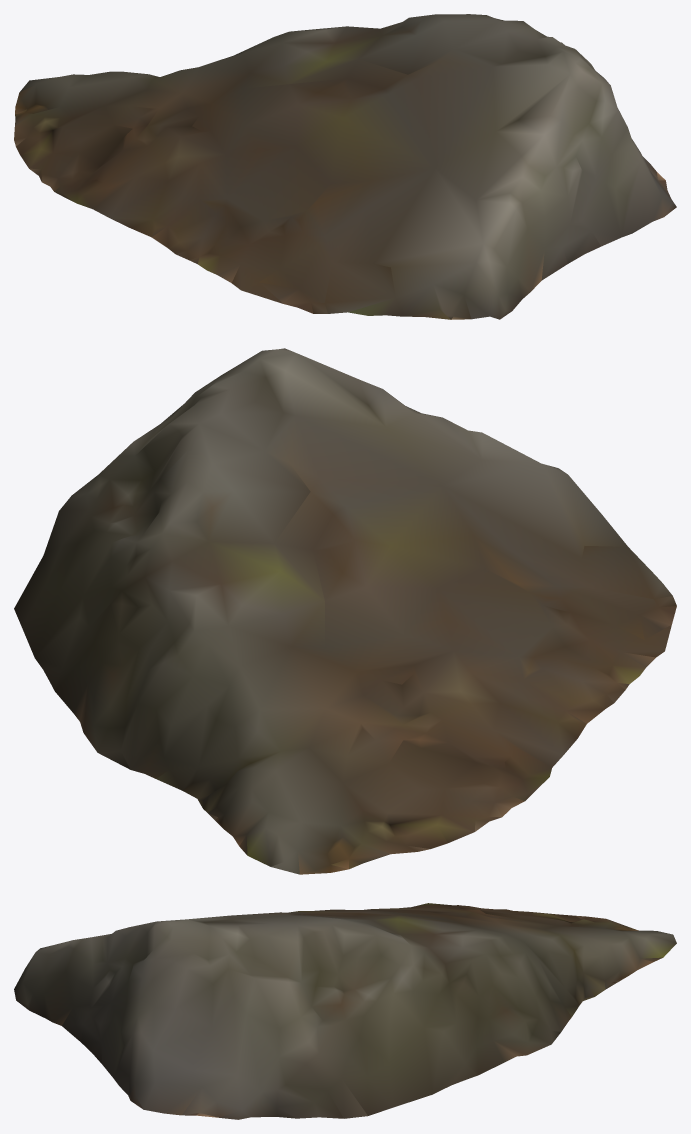
File: SM_Rock_01.fbx
3 views of the same model, one above another, from view 1: azimuth 30°, elevation 25°; view 2: azimuth 150°, elevation 25°; view 3: azimuth 270°, elevation 25° (orthographic). The views are drawn at different scales.
Visible parts, largest first — view 1: Rock_01_LOW.001; view 2: Rock_01_LOW.001; view 3: Rock_01_LOW.001.
Boxes of the visible parts, x1,y1,x2,y2 form: Rock_01_LOW.001: (14, 14, 676, 319); Rock_01_LOW.001: (14, 348, 676, 874); Rock_01_LOW.001: (14, 903, 676, 1119).
Size of the model in its own units: 252 by 83.29 by 326.
